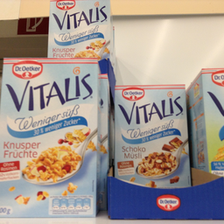cereal: (1, 58, 99, 218), (113, 84, 194, 189), (48, 1, 111, 60)
